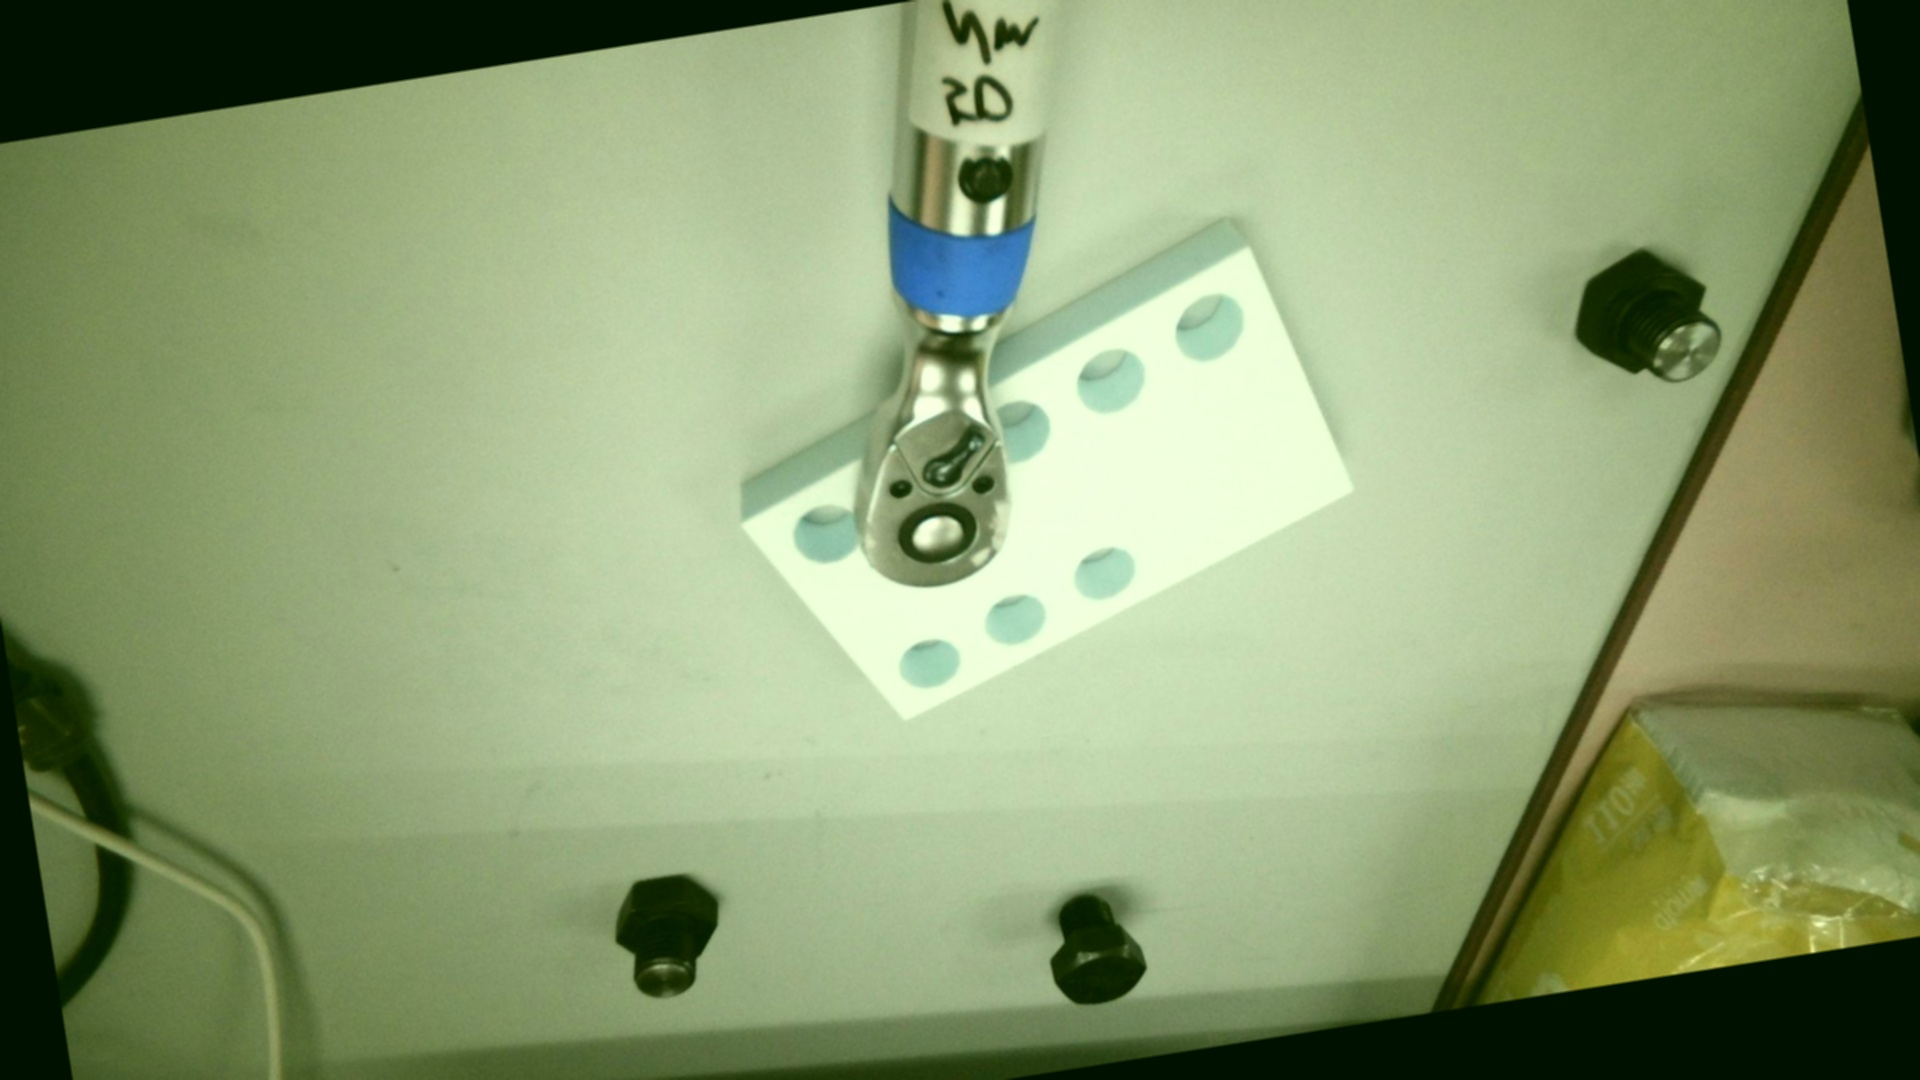hole: (1168, 287, 1250, 365), (1069, 343, 1149, 417), (789, 498, 862, 570), (990, 396, 1055, 464), (1068, 541, 1139, 603), (978, 589, 1050, 649), (895, 633, 965, 692)
obj: (705, 202, 1379, 740)
wrench: (893, 496, 982, 568)
